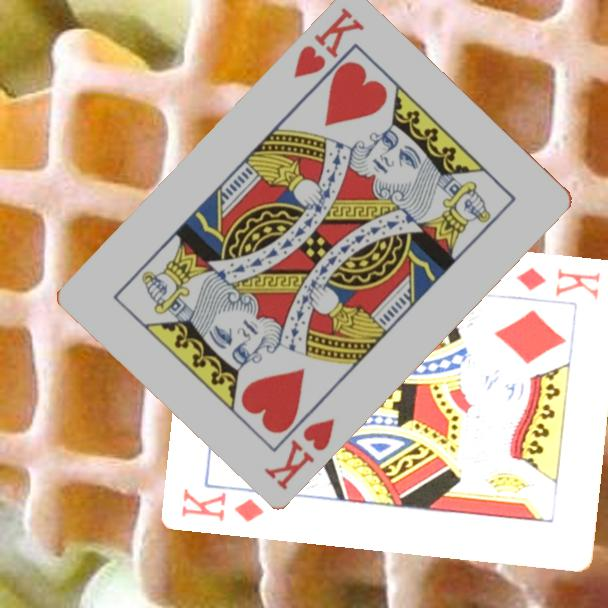d13: (178, 484, 268, 525), (513, 263, 604, 302)
h13: (289, 2, 368, 81), (260, 414, 338, 493)
